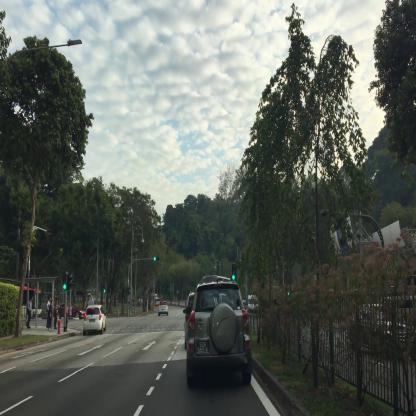green_traffic_light: (231, 263, 236, 281), (63, 272, 66, 290), (154, 256, 160, 260)
